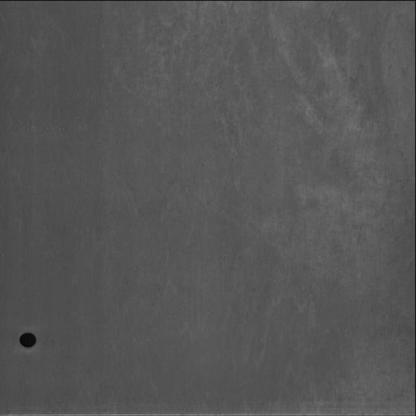punching_hole: (18, 326, 42, 350)
